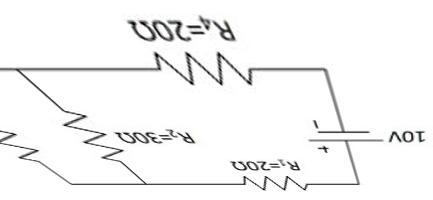resistor: (143, 45, 257, 105), (44, 101, 120, 165), (227, 170, 310, 193), (0, 122, 46, 155)
